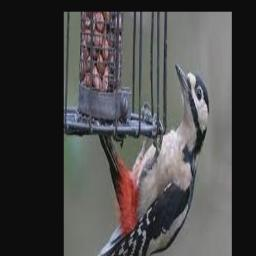Woodpecker: (97, 62, 209, 256)
